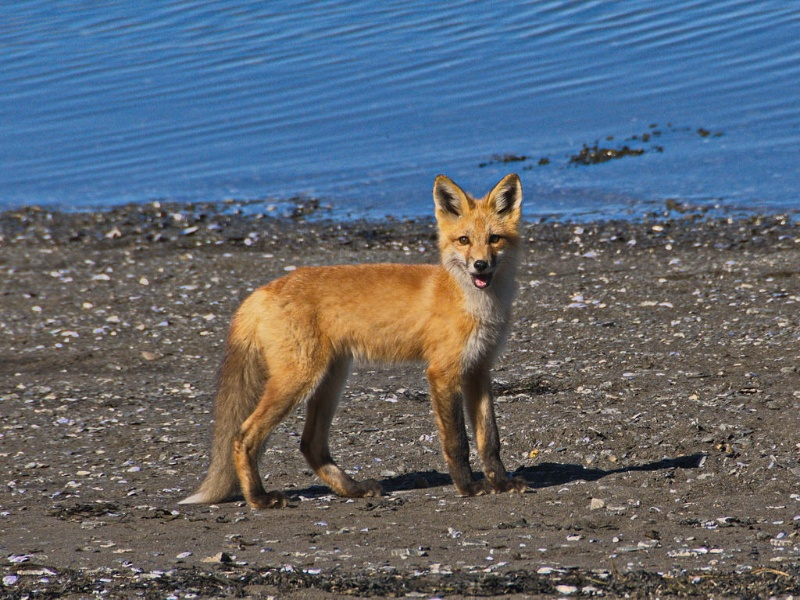fox: (179, 168, 532, 518)
